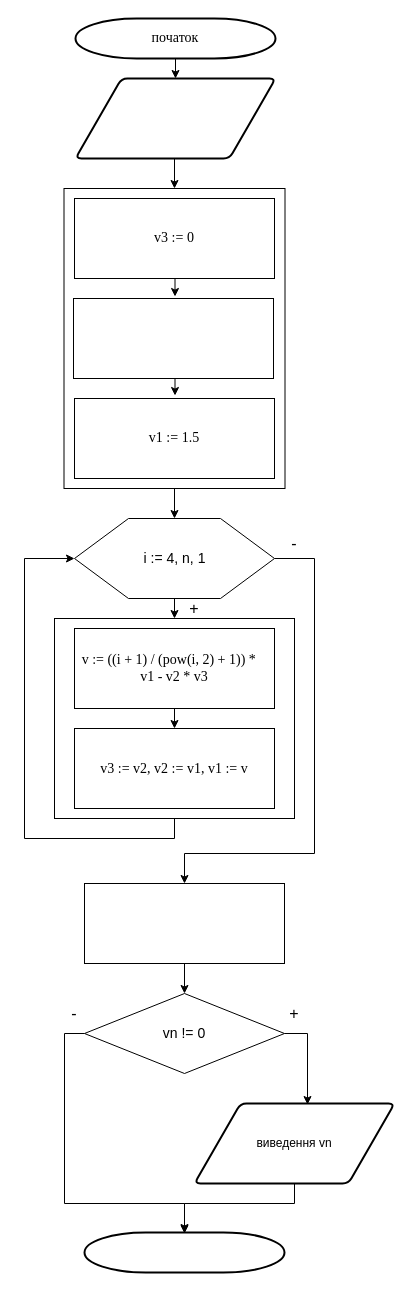
Some shapes in this 413 by 1290 pixel diagram are drawn without their labels. The shapes that lost their labels are listed below. From the top down, each one's centre as x and y in pixels, then its label:
At point 175,118: "введення n".
At point 173,338: "v2 := 0".
At point 184,923: "vn := v".
At point 184,1252: "кінець".
